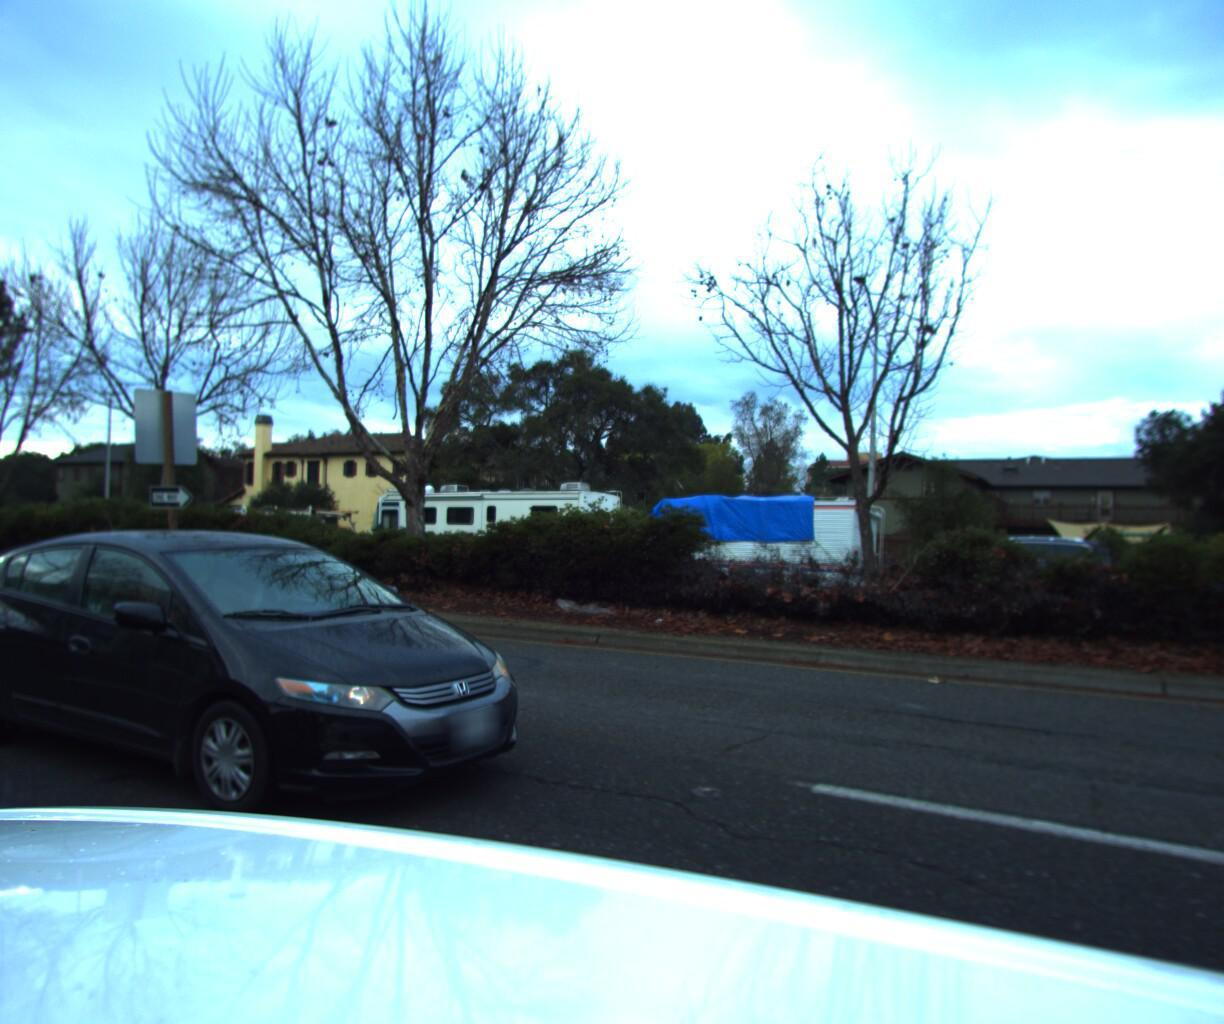car: (897, 525, 1136, 628), (215, 479, 387, 534)
other_vehicle: (631, 481, 893, 618), (349, 468, 628, 582)
